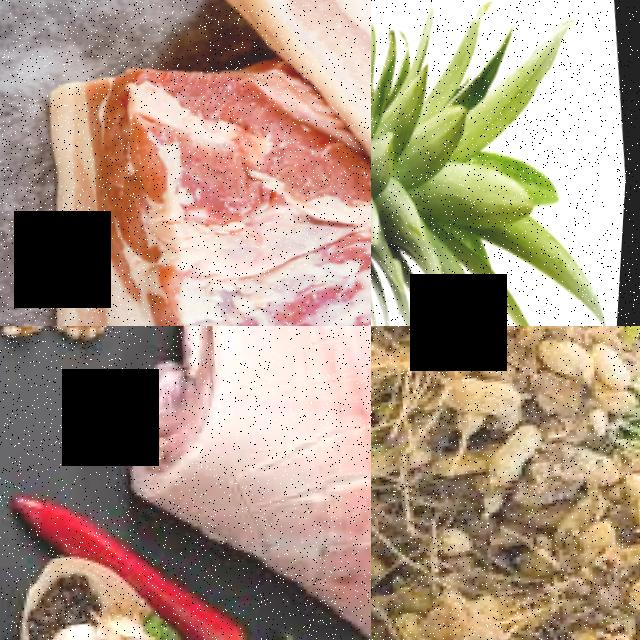peanuts: (486, 418, 554, 485), (445, 368, 527, 421), (535, 334, 601, 382), (590, 337, 640, 387)
pork belly: (19, 38, 371, 326), (105, 326, 371, 542), (190, 0, 371, 285)
